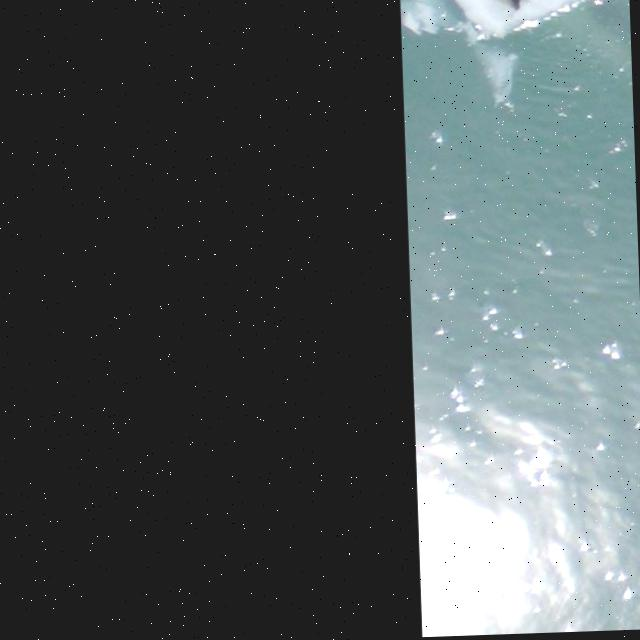seal: (482, 0, 521, 10)
